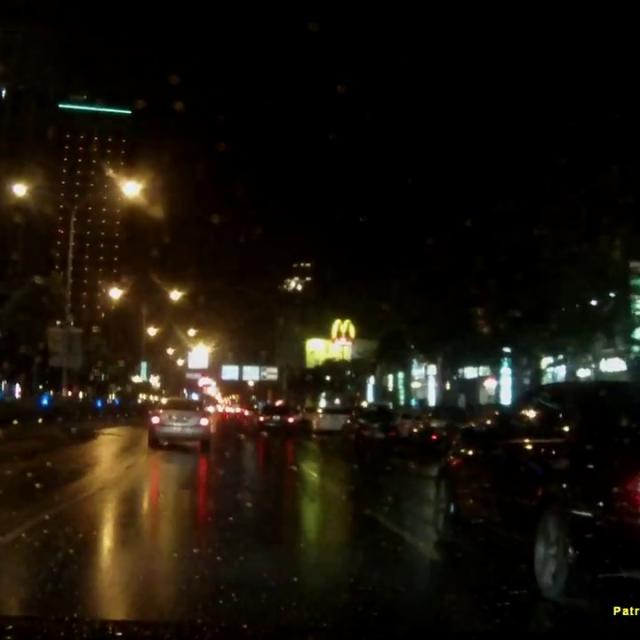Car: (429, 379, 639, 594), (146, 395, 214, 453), (407, 403, 468, 449), (336, 410, 398, 455), (251, 405, 298, 433), (313, 404, 351, 437), (295, 404, 321, 428)
